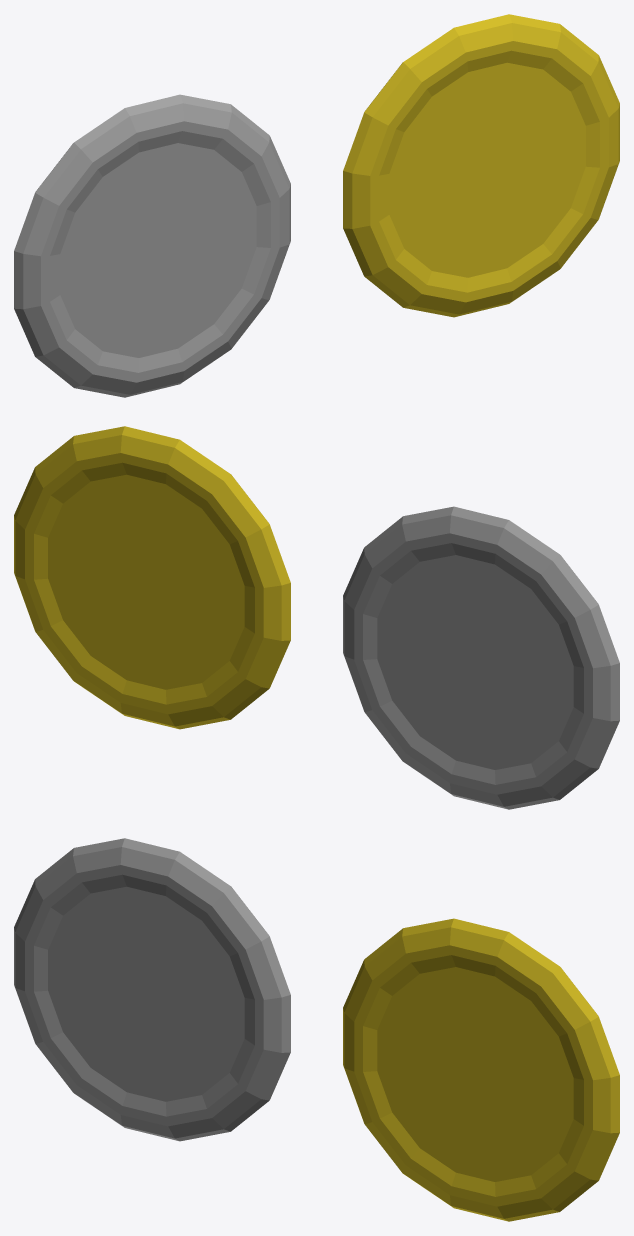
3 views of the same model, one above another, from view 1: azimuth 30°, elevation 25°; view 2: azimuth 150°, elevation 25°; view 3: azimuth 330°, elevation 25° (orthographic).
Visible parts, largest first — view 1: SilverCoin, GoldCoin; view 2: SilverCoin, GoldCoin; view 3: SilverCoin, GoldCoin.
Part boxes in pixels (bbox=[...]): SilverCoin: bbox=[14, 94, 290, 397]; GoldCoin: bbox=[343, 14, 619, 317]; SilverCoin: bbox=[343, 506, 619, 809]; GoldCoin: bbox=[14, 426, 290, 729]; SilverCoin: bbox=[14, 838, 290, 1141]; GoldCoin: bbox=[343, 918, 619, 1221].
Bounding box in the file's own units: 43.77 × 20 × 2.
